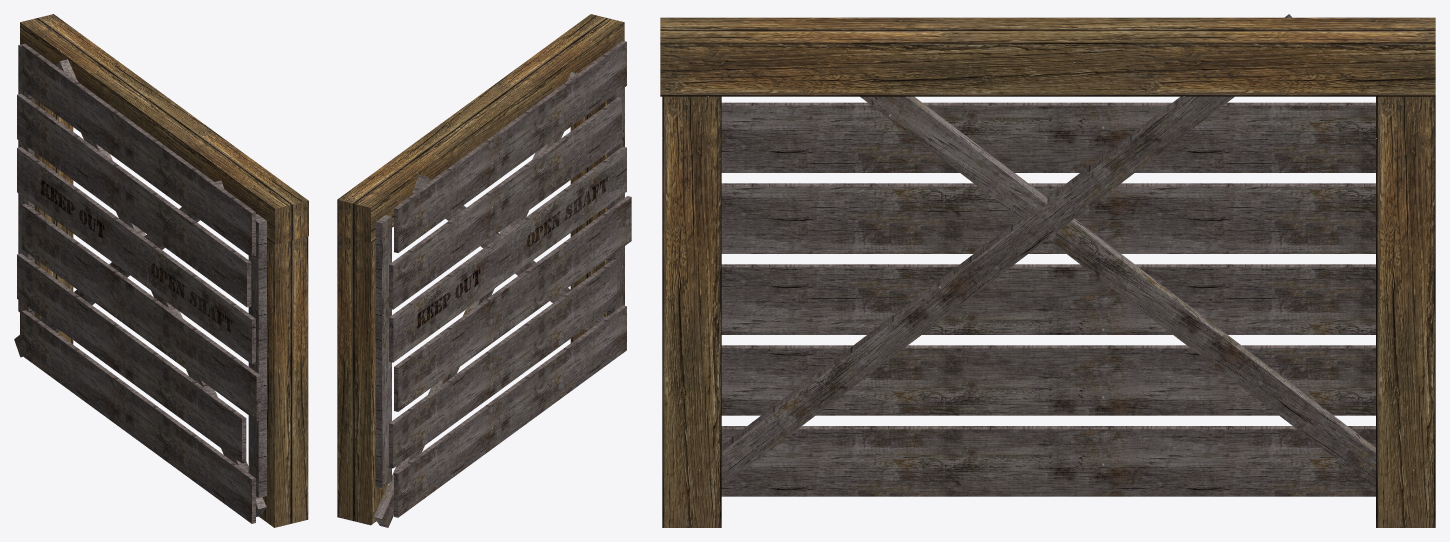
Rendered from keepOUTbarricade001.dae.
3 renders of one model, left to right at view 1: azimuth 30°, elevation 25°; view 2: azimuth 150°, elevation 25°; view 3: azimuth 270°, elevation 25°, orthographic. The views are drawn at different scales.
Parts seen in each view (by area): view 1: keepOUTbarricade001; view 2: keepOUTbarricade001; view 3: keepOUTbarricade001.
Boxes of the visible parts, box(x1,y1,x2,y2) form: keepOUTbarricade001: box(14, 14, 308, 527); keepOUTbarricade001: box(337, 14, 631, 527); keepOUTbarricade001: box(660, 14, 1435, 527).
Bounding box in the file's own units: 1.38 × 13.03 × 9.2.
4 materials, 4 textured.
